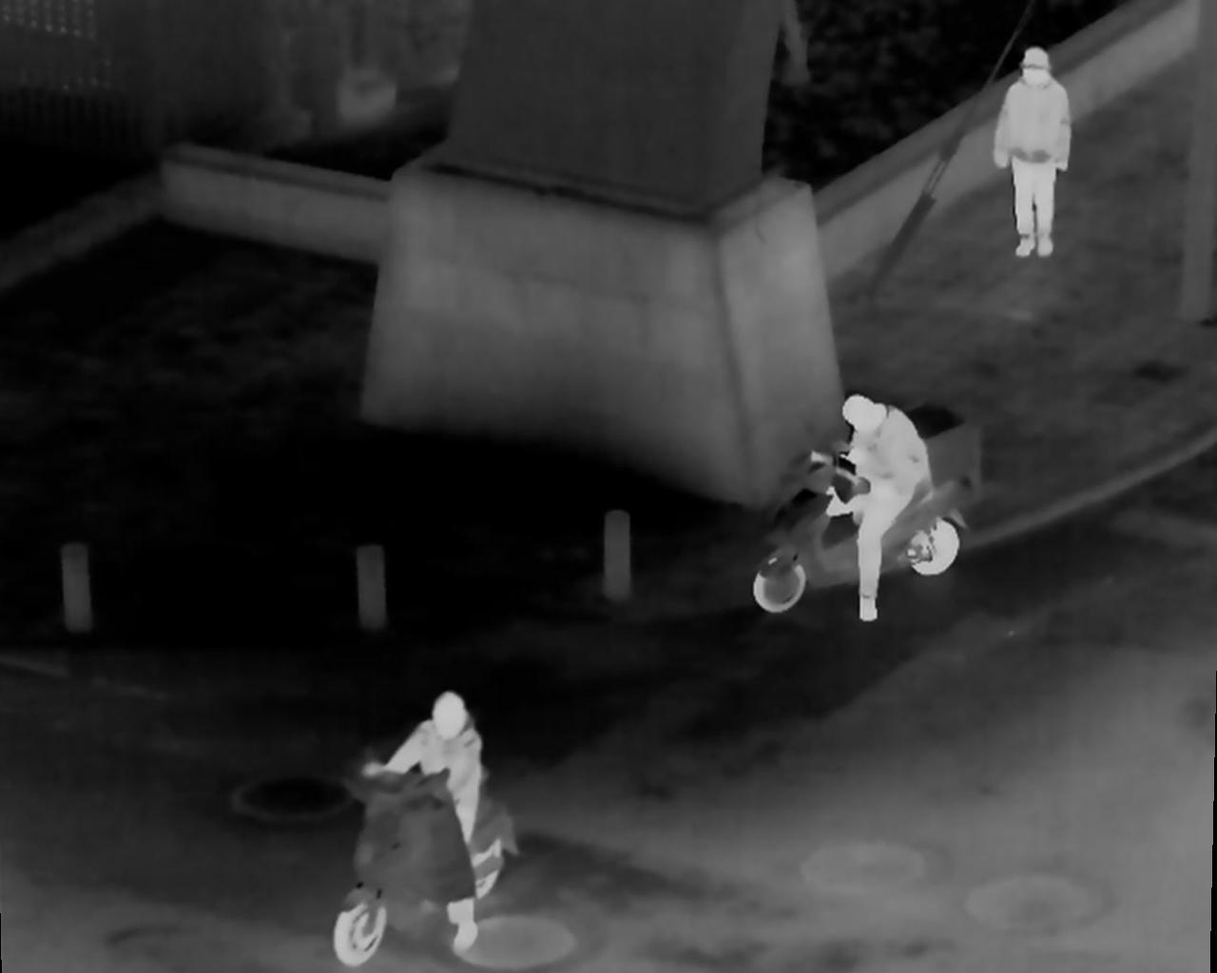person: (379, 688, 483, 908), (832, 399, 917, 627), (999, 38, 1066, 256)
